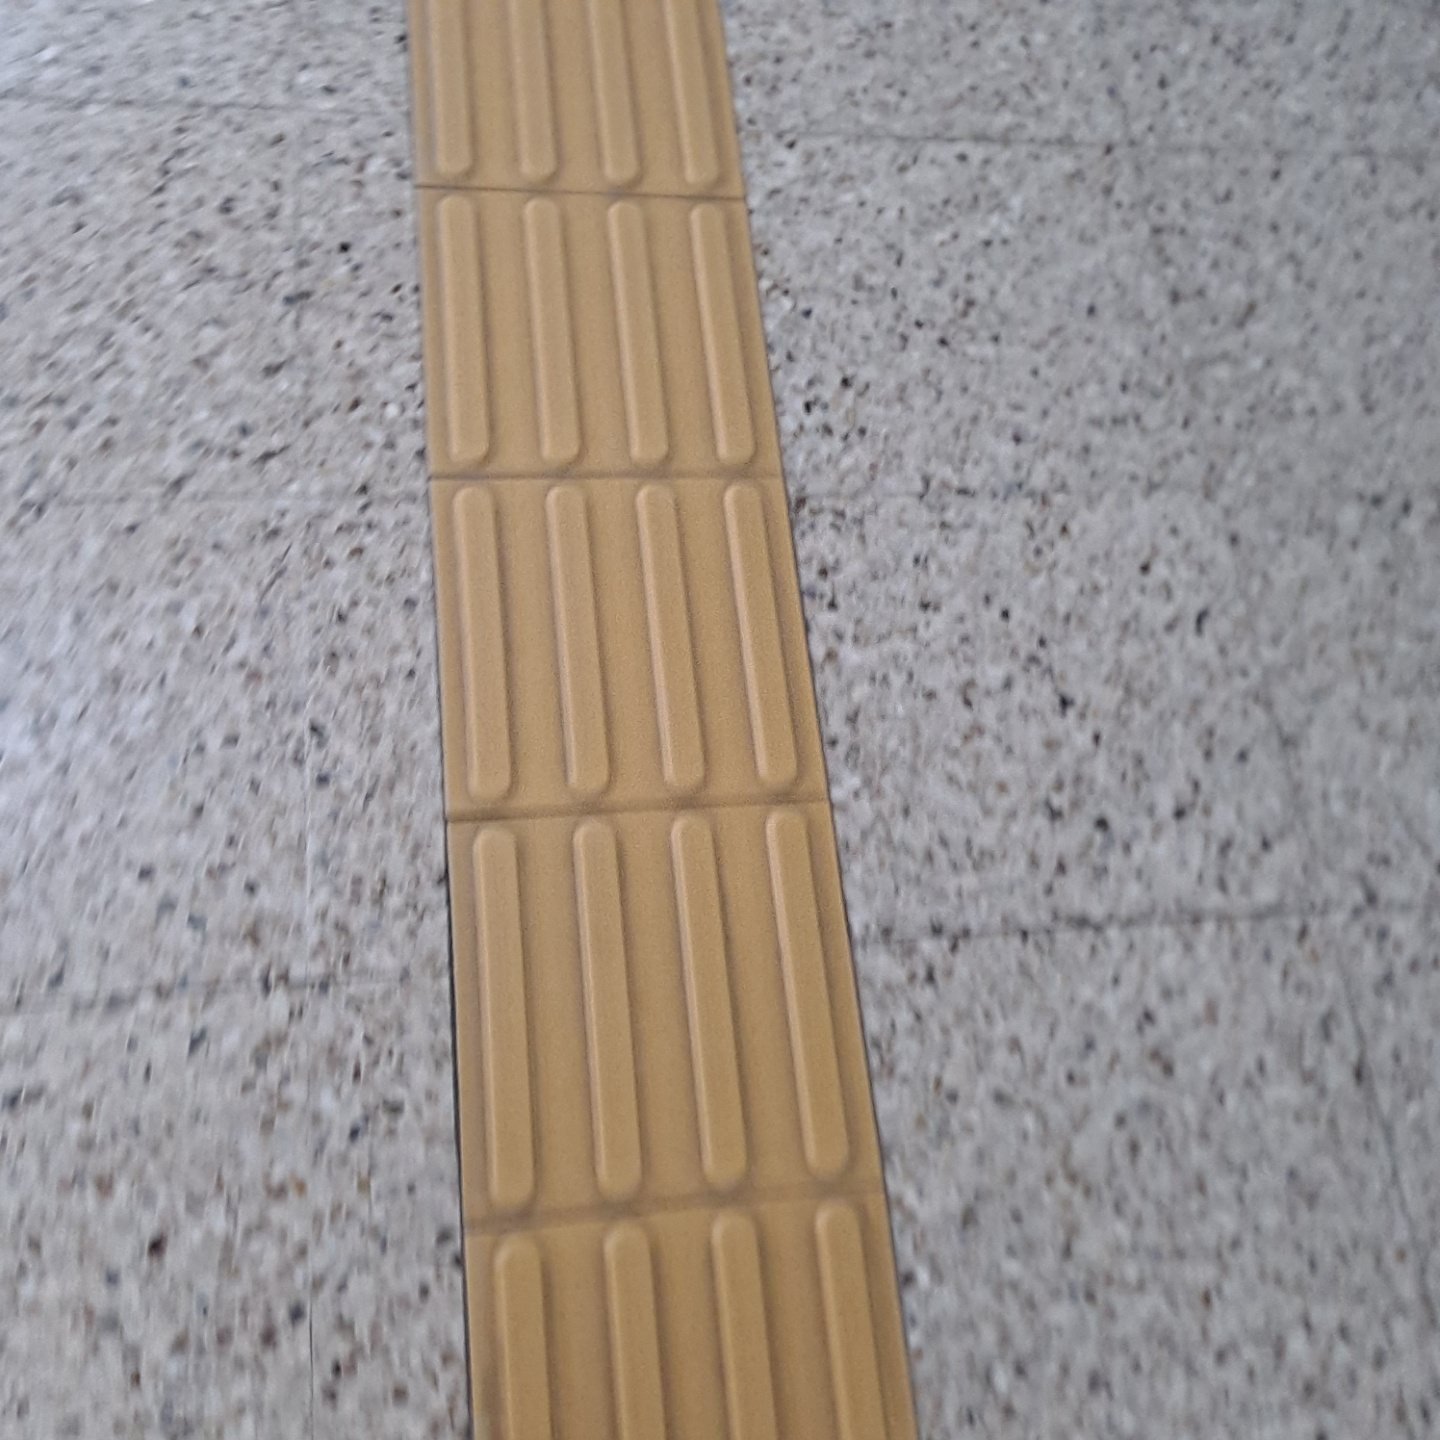guideBlock: (407, 814, 928, 1201), (431, 483, 820, 816), (491, 1197, 923, 1440), (425, 198, 787, 464), (418, 1, 727, 204)
